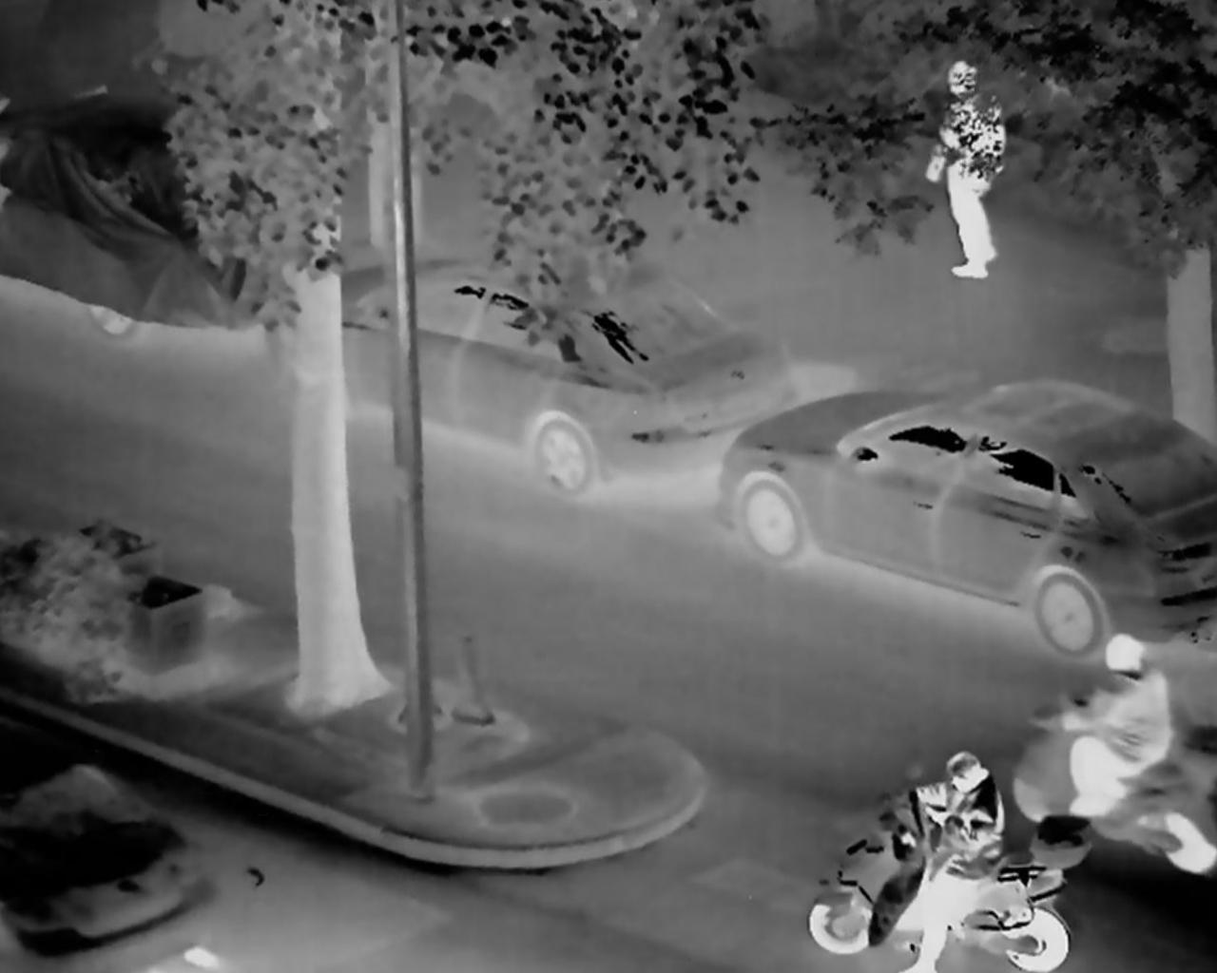person: (881, 742, 1022, 973), (922, 52, 1031, 290), (1049, 629, 1169, 842)
